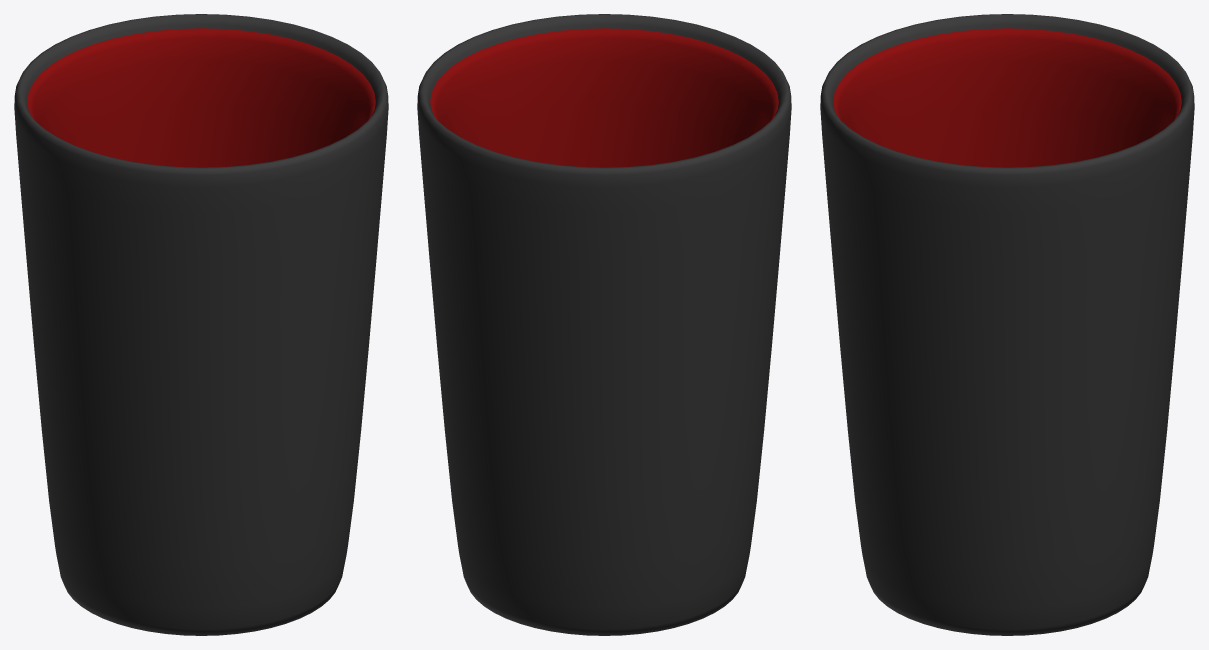
File: Becher.fbx
The picture shows the model from 3 angles, left to right: view 1: azimuth 30°, elevation 25°; view 2: azimuth 150°, elevation 25°; view 3: azimuth 270°, elevation 25°; orthographic projection.
Visible parts, largest first — view 1: Becher, Becher (Innen); view 2: Becher, Becher (Innen); view 3: Becher, Becher (Innen).
Boxes of the visible parts, left/top/right/bottom form: Becher: left=14, top=14, right=388, bottom=635; Becher (Innen): left=27, top=28, right=375, bottom=167; Becher: left=417, top=14, right=791, bottom=635; Becher (Innen): left=430, top=28, right=778, bottom=167; Becher: left=820, top=14, right=1194, bottom=635; Becher (Innen): left=833, top=28, right=1181, bottom=167.
Size of the model in its own units: 189 by 271 by 189.
